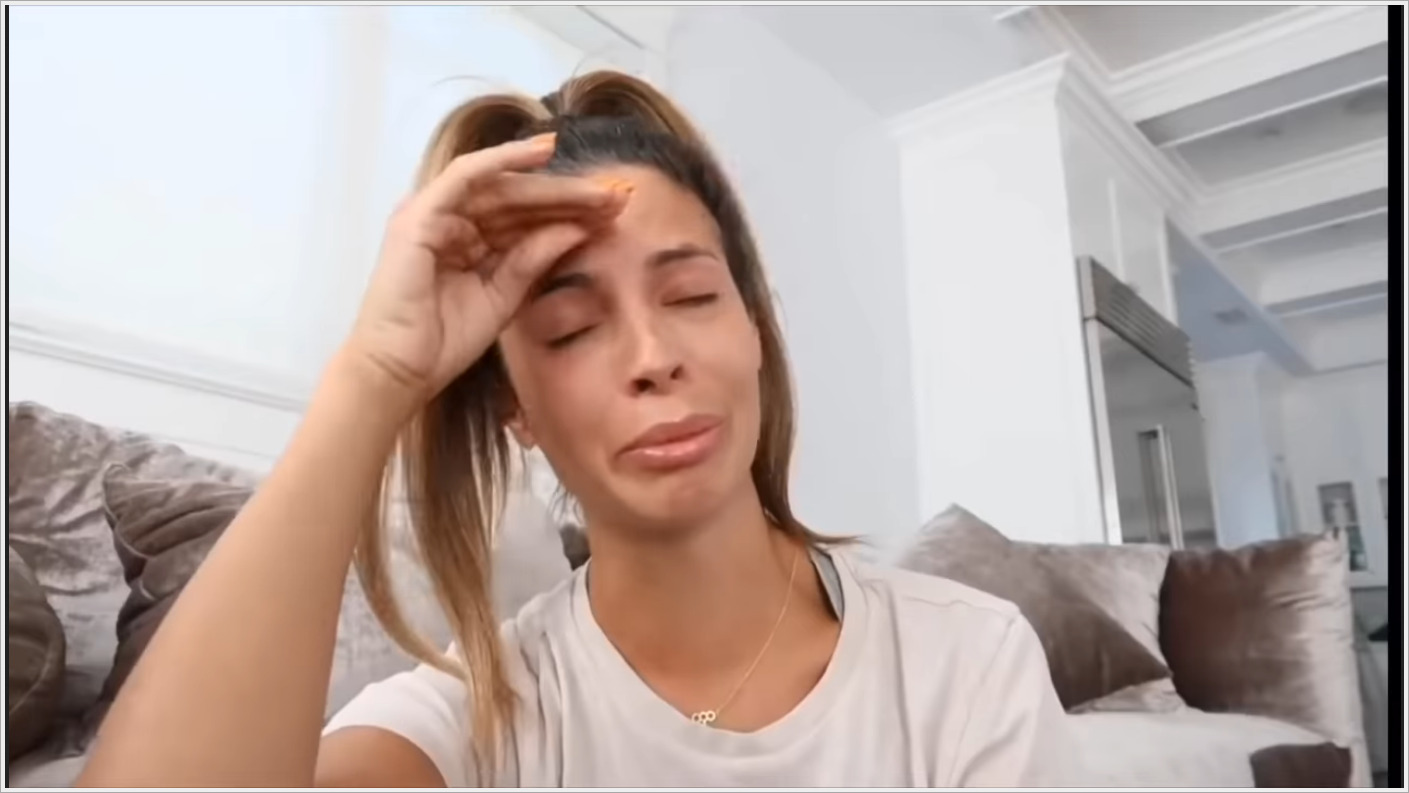hand: (361, 132, 642, 398)
